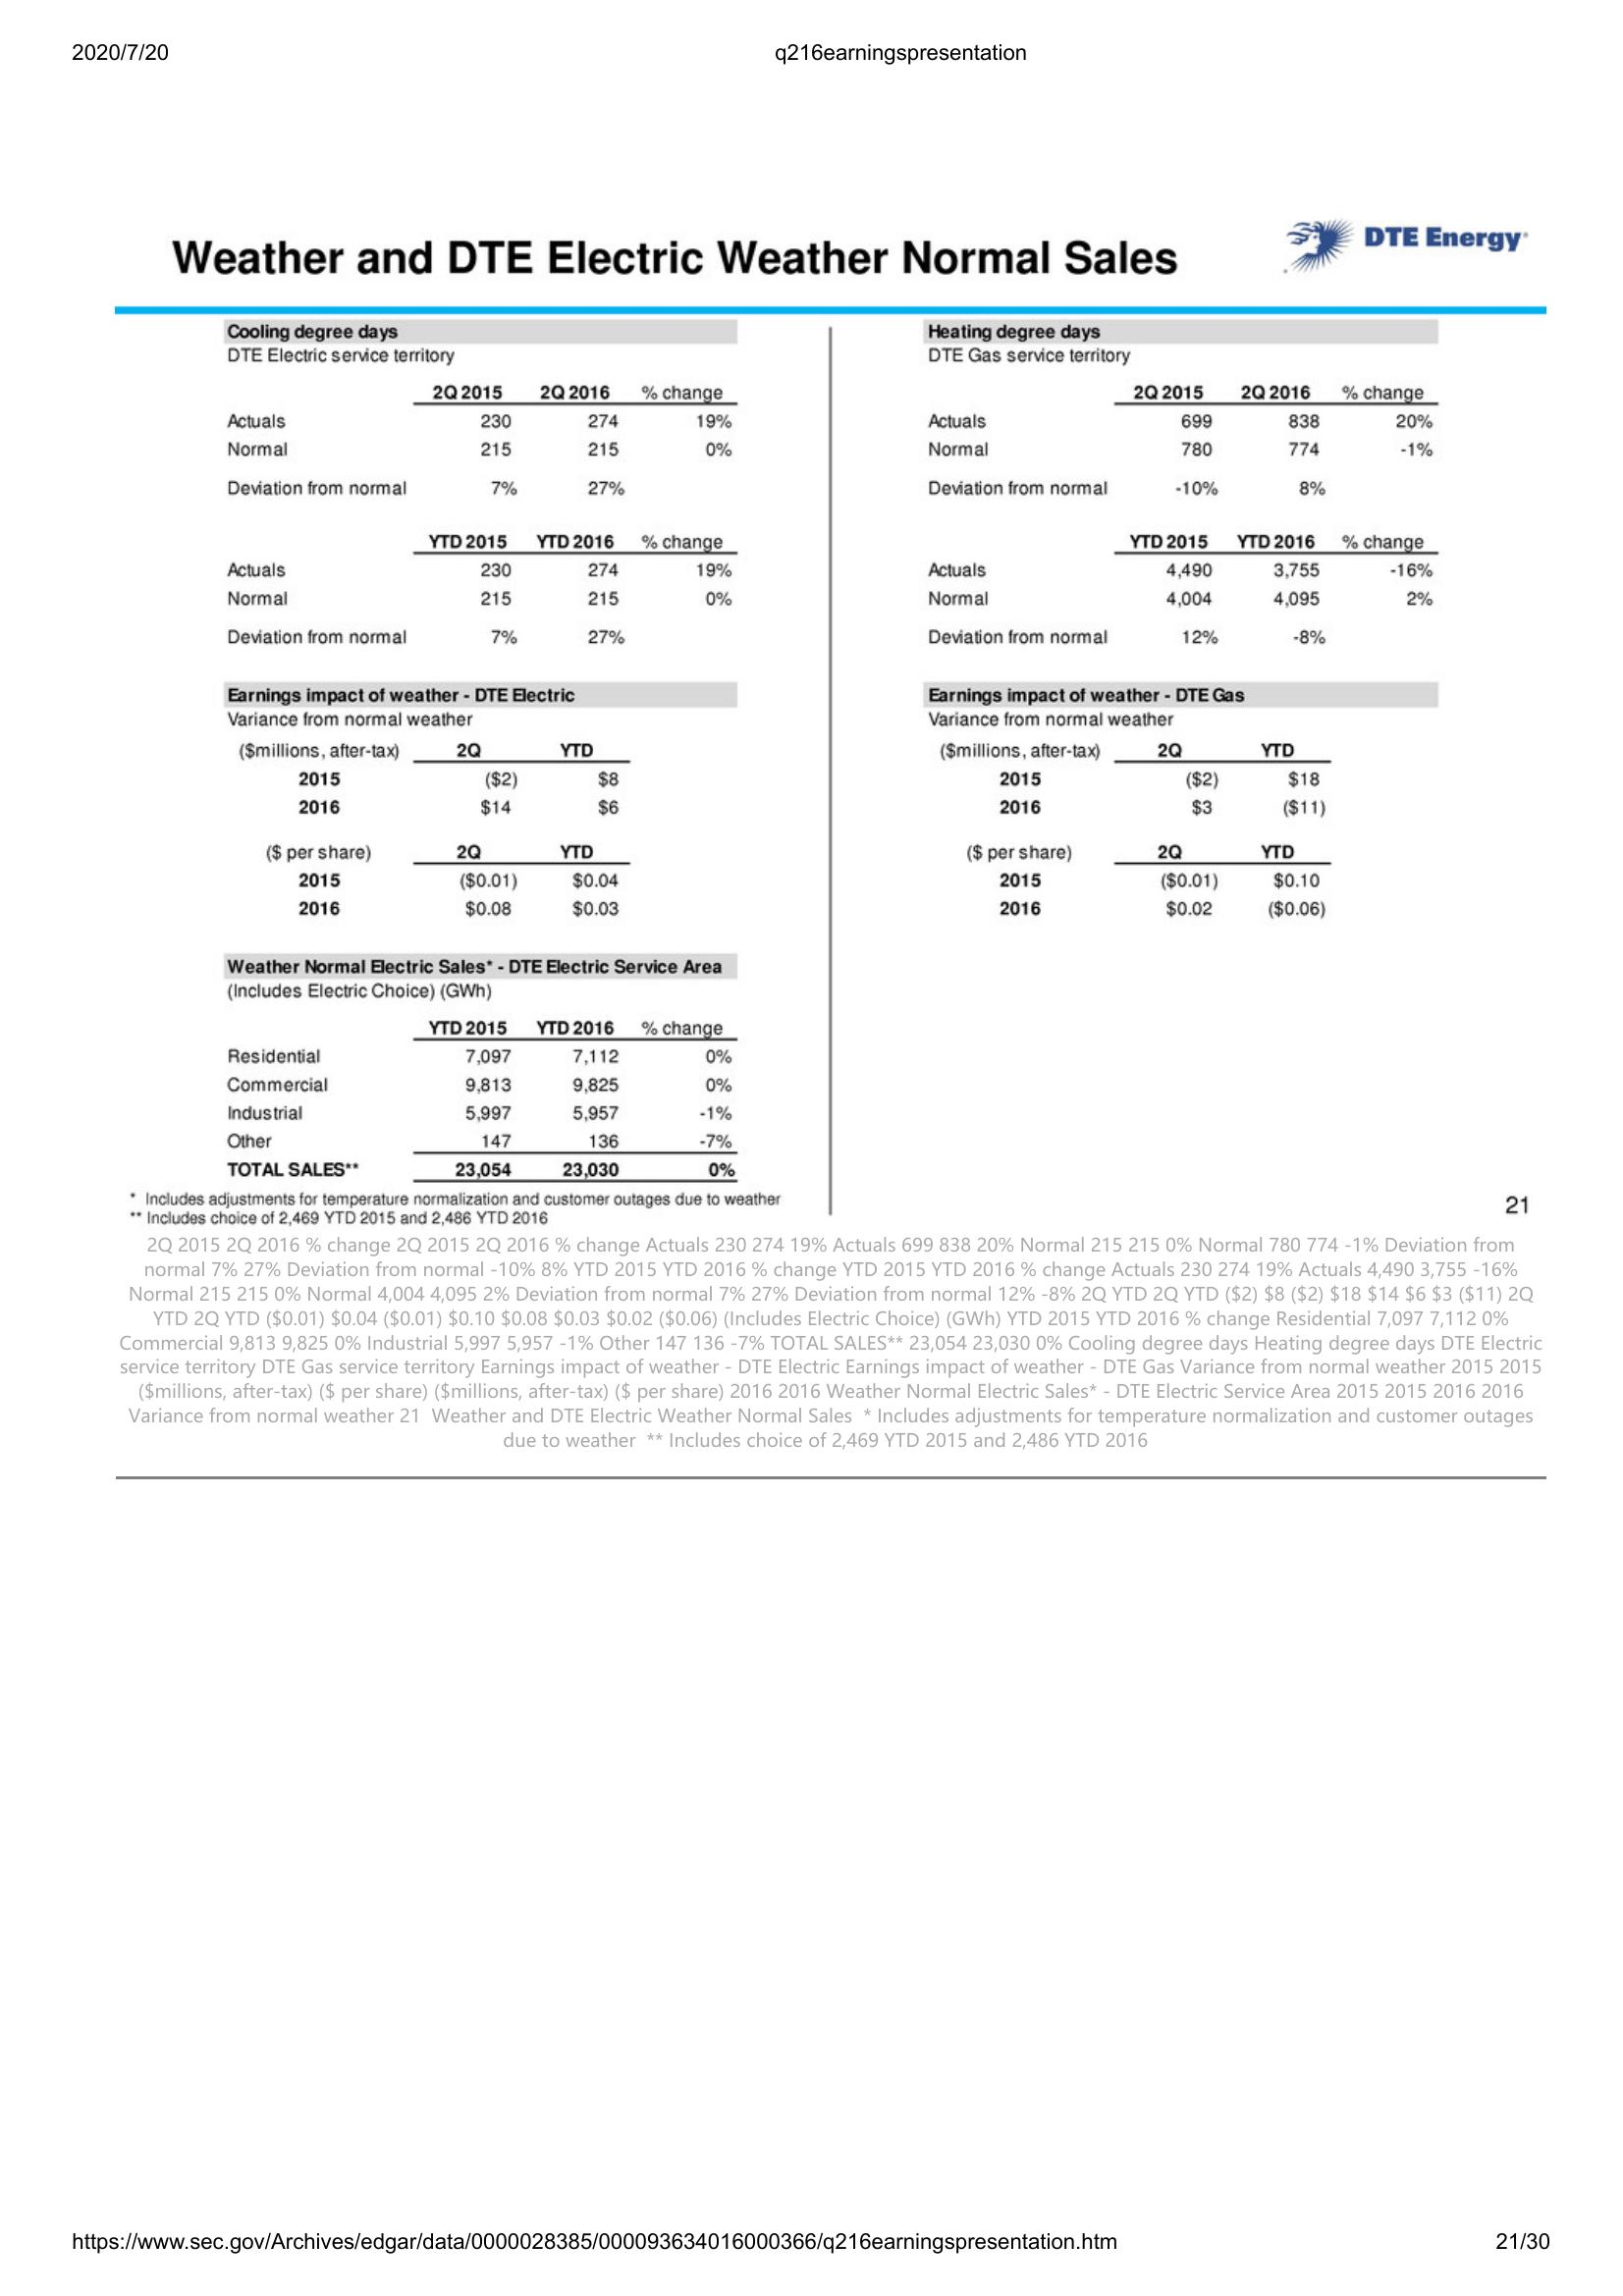table: (213, 312, 771, 1187), (905, 311, 1447, 930)
